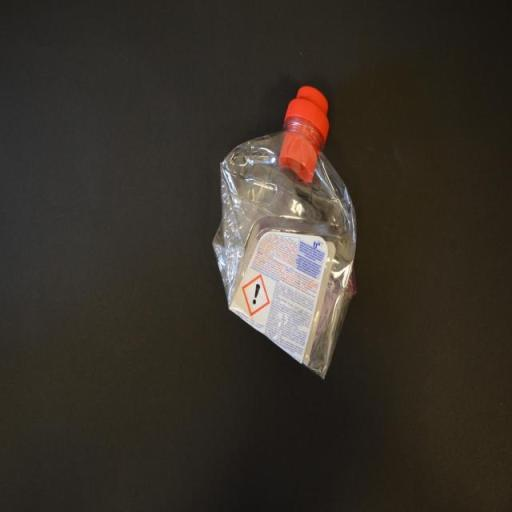plastic: (212, 82, 359, 380)
